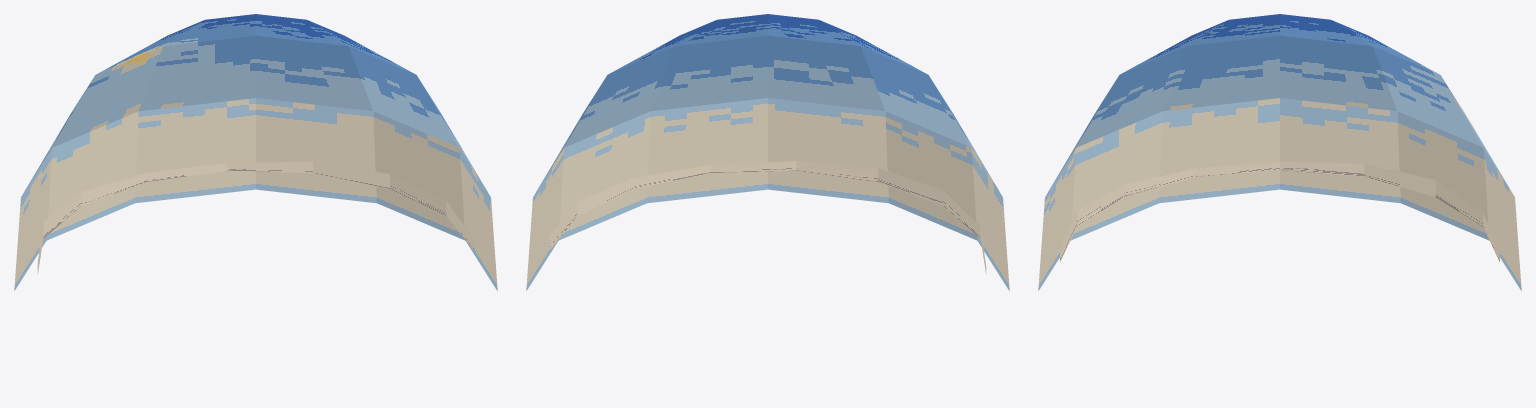
Rendered from land.sky__dunes.glb.
3 views of the same model, side by side, from view 1: azimuth 30°, elevation 25°; view 2: azimuth 150°, elevation 25°; view 3: azimuth 270°, elevation 25° (orthographic).
Parts seen in each view (by area): view 1: kit_shell_sky, kit_shell_horizon; view 2: kit_shell_sky, kit_shell_horizon; view 3: kit_shell_sky, kit_shell_horizon.
Part boxes in pixels (x1,y1,x2,y2): kit_shell_sky: (14,14,497,290); kit_shell_horizon: (37,161,474,274); kit_shell_sky: (526,14,1009,290); kit_shell_horizon: (549,160,986,274); kit_shell_sky: (1038,14,1521,290); kit_shell_horizon: (1060,161,1499,261).
Size of the model in its own units: 791 by 460 by 791.
Materials: 2 (2 with a texture image).
